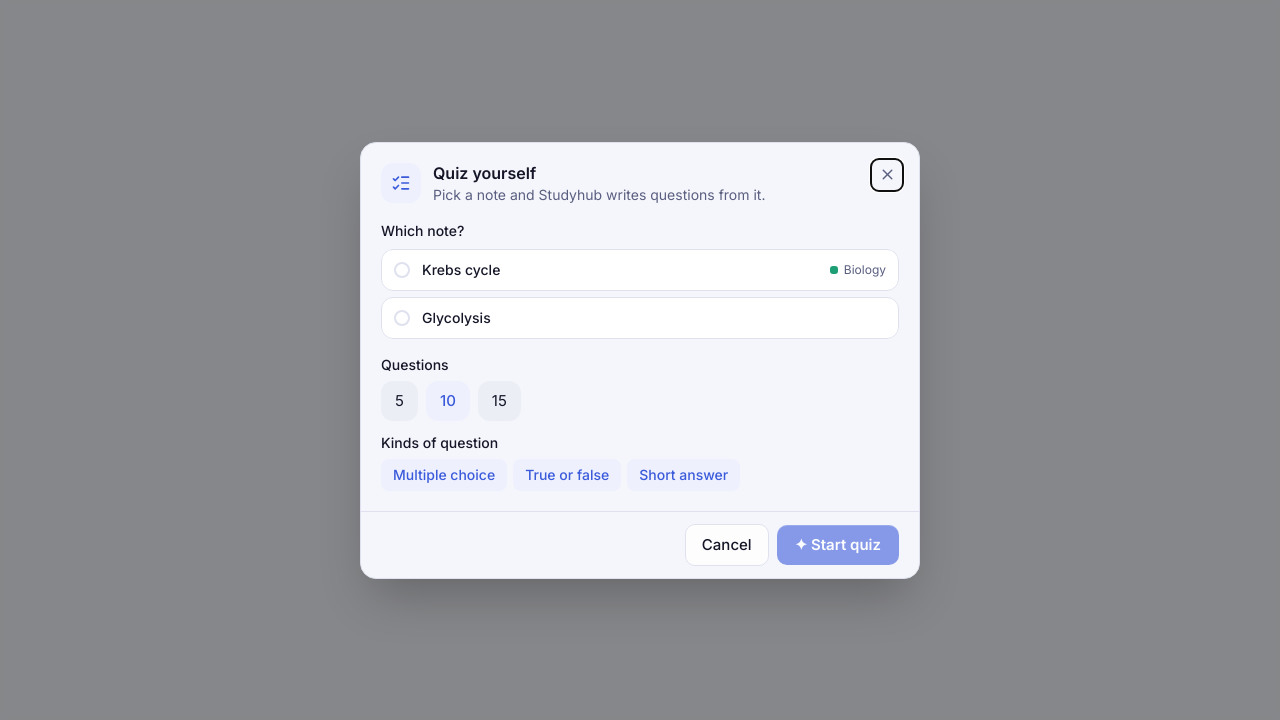
Test: the Quiz dialog › lists the notes with their courses, and Start waits until one is chosen
Expected: the button "✦ Start quiz" is disabled, [777,524,899,564]
What coordinates should you click on to do the following:
click the radio button labelled "Krebs cycle Biology"
I would click on:
 (461, 269)
Its box is [381,248,899,290].
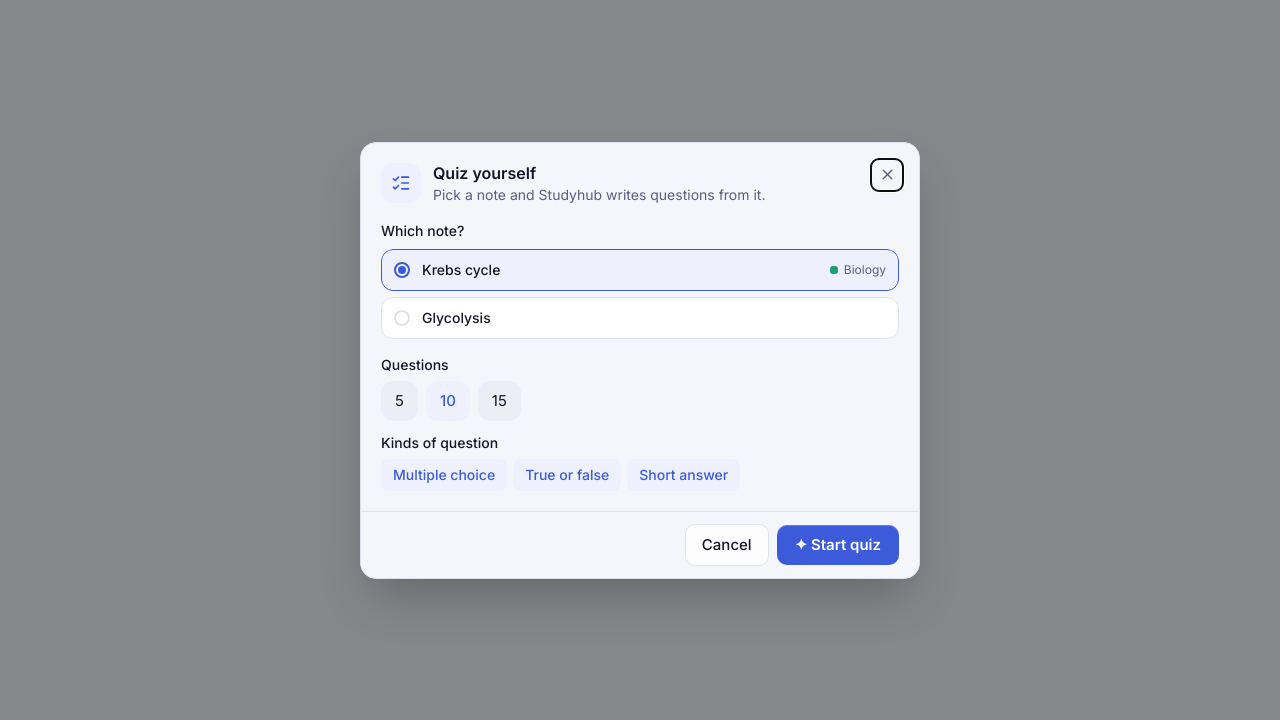
Now the button "✦ Start quiz" is enabled, box [777,524,899,564]
